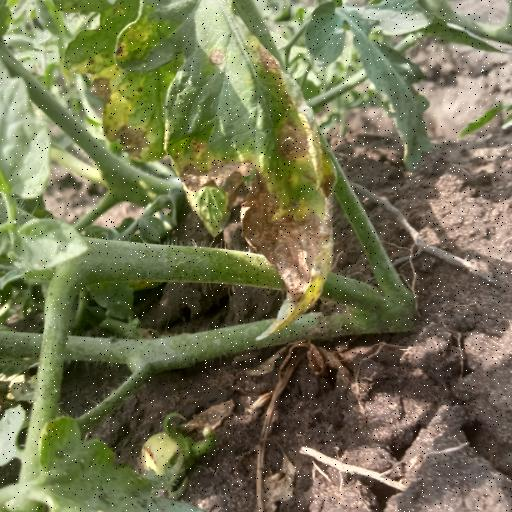Tomato_Brown_Spots: (43, 0, 344, 350)
